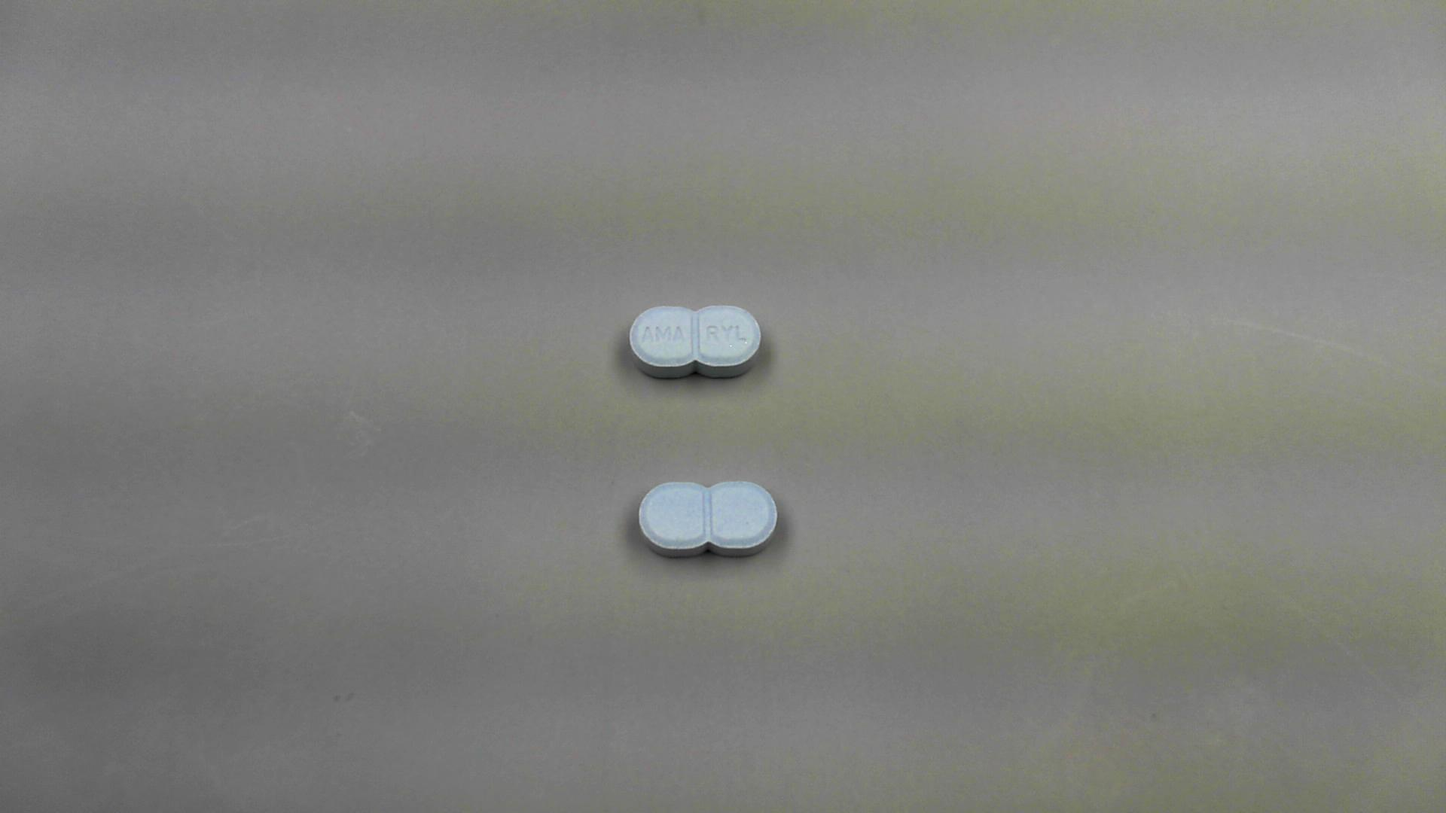Pill: (631, 465, 786, 573), (619, 297, 773, 385)
